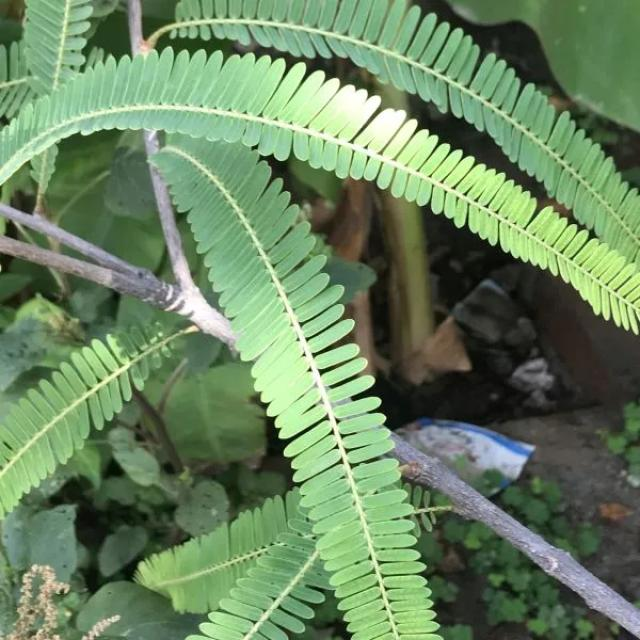Amla: (51, 28, 640, 637), (14, 80, 567, 570)
